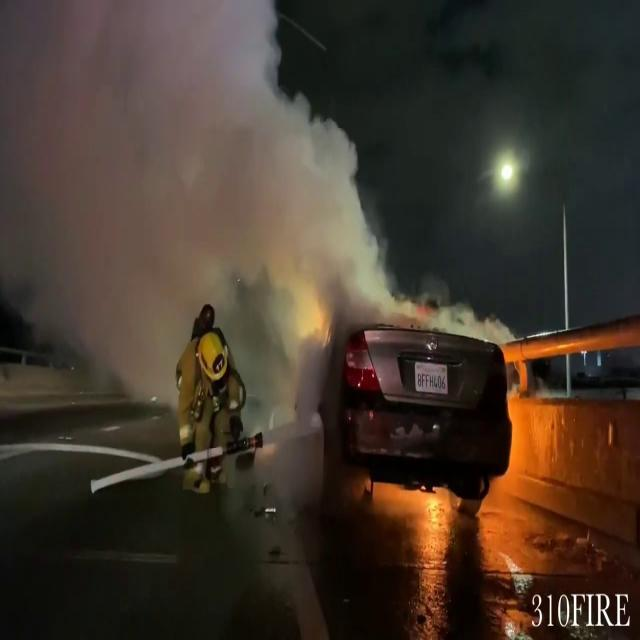Smoke: (0, 0, 380, 397)
